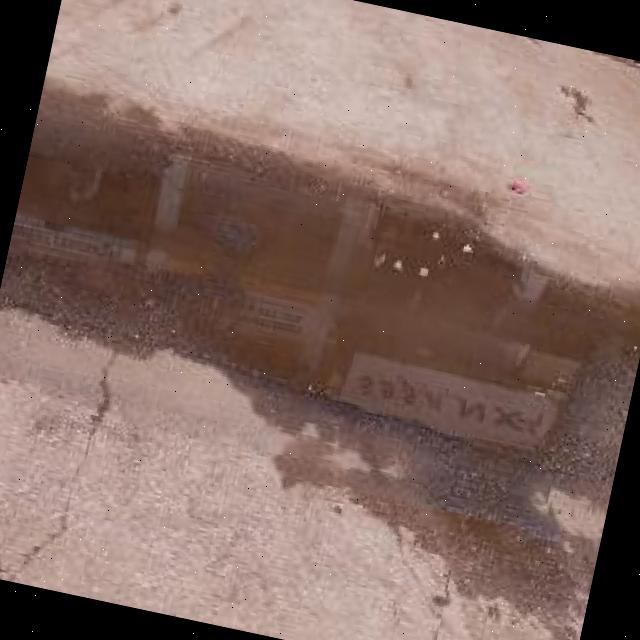waterlogging: (0, 75, 640, 540)
